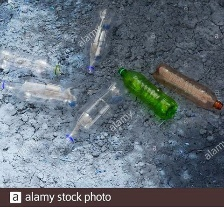bottle: (60, 77, 127, 150), (151, 60, 223, 114), (115, 64, 177, 122), (0, 73, 84, 112), (79, 5, 123, 79), (0, 44, 70, 80)
